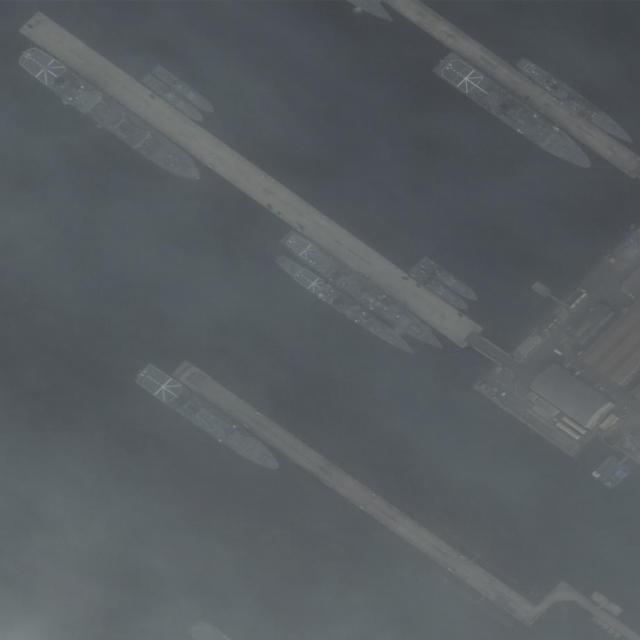Auxiliary Ships: (15, 41, 205, 186), (429, 46, 599, 180), (134, 359, 286, 478)
Destroyer: (277, 223, 451, 356), (273, 251, 422, 361)
Dock: (17, 13, 506, 360), (172, 356, 530, 619)
Other Warship: (514, 54, 637, 151), (151, 63, 218, 117), (140, 72, 206, 125), (407, 265, 471, 313), (417, 257, 480, 303)
